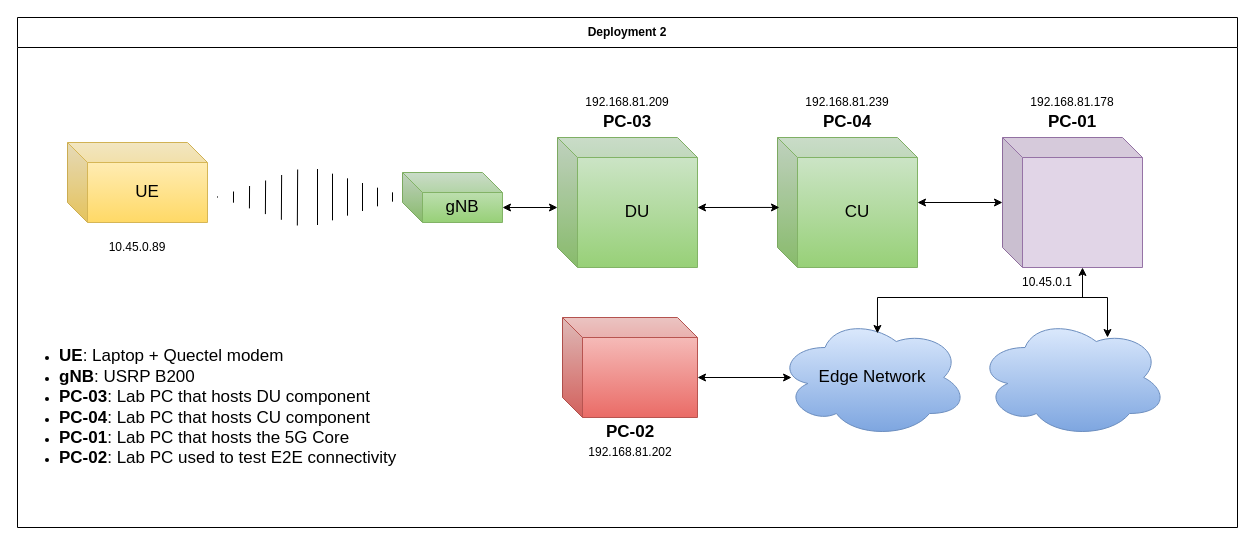
The diagram is 1255 pixels wide and 545 high, and some of its shapes have lost their labels. The centre of each missing label's shape, as x and y in pixels:
"Edge device" belongs at (x=630, y=367).
"Internet" belongs at (x=1072, y=377).
"Open5GS" belongs at (x=1072, y=202).
